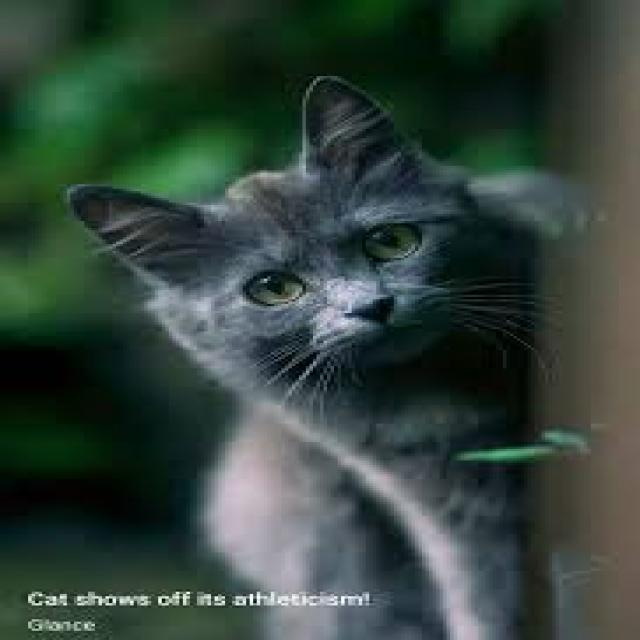Cat: (63, 70, 541, 638)
